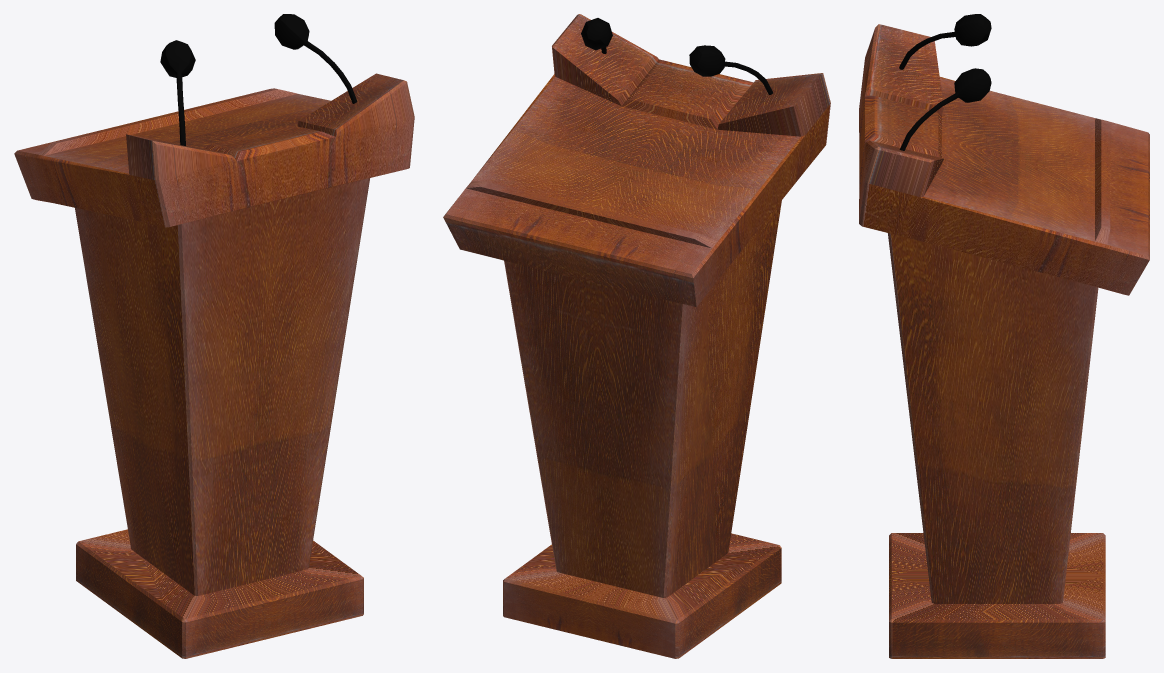
Rendered from Podium.fbx.
3 renders of one model, left to right at view 1: azimuth 30°, elevation 25°; view 2: azimuth 150°, elevation 25°; view 3: azimuth 270°, elevation 25°, orthographic. The views are drawn at different scales.
Parts seen in each view (by area): view 1: polySurface32; view 2: polySurface32; view 3: polySurface32.
Boxes of the visible parts, x1=… form: polySurface32: x1=14, y1=14, x2=414, y2=658; polySurface32: x1=443, y1=14, x2=830, y2=658; polySurface32: x1=859, y1=14, x2=1149, y2=658.
Bounding box in the file's own units: 2.27 × 4.83 × 2.22.
2 materials, 1 textured.
